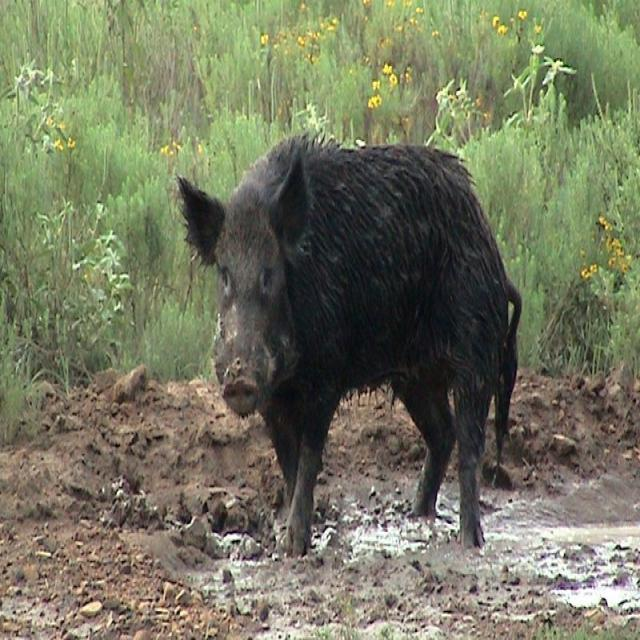Boar: (180, 138, 508, 552)
